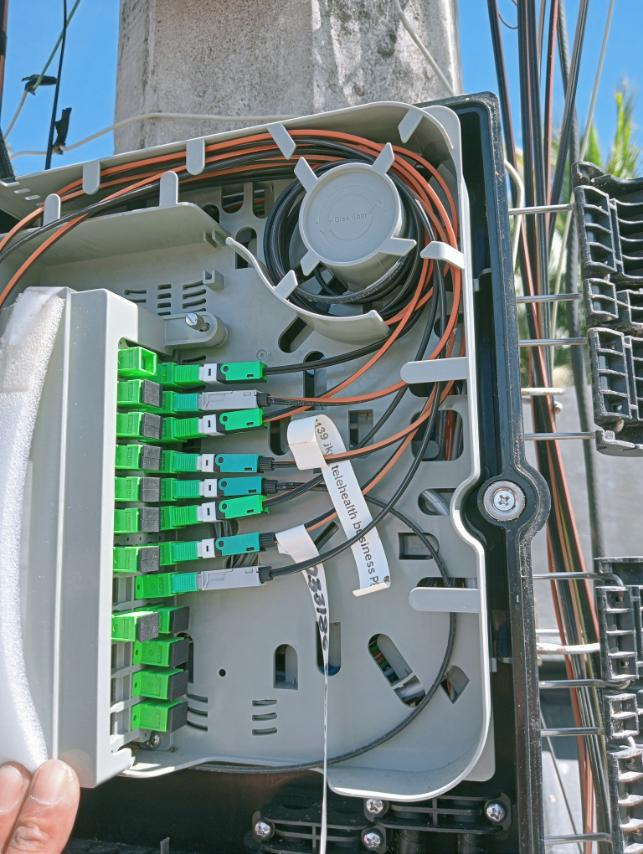no dust cap: (139, 348, 157, 375)
no port: (108, 641, 131, 676), (109, 576, 132, 608), (108, 674, 129, 708), (108, 707, 129, 740)
occupied: (173, 492, 282, 527), (171, 561, 286, 594), (171, 528, 287, 560), (173, 405, 274, 437), (172, 358, 277, 385), (171, 474, 283, 497), (174, 454, 283, 475), (173, 390, 272, 412)
vacant: (169, 668, 190, 702), (170, 699, 190, 734), (138, 612, 159, 642), (141, 380, 162, 408), (171, 606, 191, 635), (139, 547, 162, 572), (141, 446, 162, 472), (142, 412, 162, 439), (142, 476, 162, 503), (172, 639, 190, 668), (141, 506, 161, 531)
